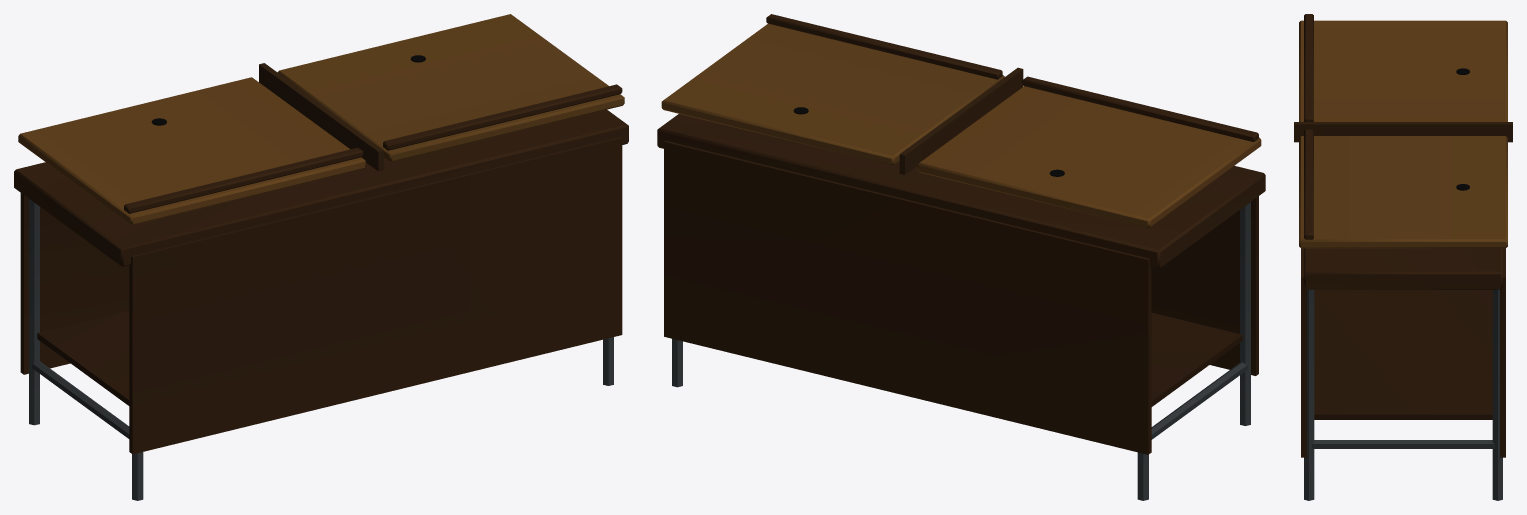
The model's file is school-desk-double.glb.
3 views of the same model, side by side, from view 1: azimuth 30°, elevation 25°; view 2: azimuth 150°, elevation 25°; view 3: azimuth 270°, elevation 25° (orthographic). The views are drawn at different scales.
Parts seen in each view (by area): view 1: frame__wood, lid-l__wood, lid-r__wood, legs__steel; view 2: frame__wood, lid-l__wood, lid-r__wood, legs__steel; view 3: frame__wood, lid-r__wood, lid-l__wood, legs__steel.
Boxes of the visible parts, left/top/right/bottom form: frame__wood: left=14, top=63, right=628, bottom=454; lid-l__wood: left=18, top=77, right=365, bottom=225; lid-r__wood: left=277, top=14, right=624, bottom=162; legs__steel: left=29, top=199, right=613, bottom=500; frame__wood: left=657, top=67, right=1265, bottom=454; lid-l__wood: left=917, top=76, right=1261, bottom=228; lid-r__wood: left=661, top=14, right=1004, bottom=165; legs__steel: left=672, top=202, right=1250, bottom=500; frame__wood: left=1294, top=122, right=1512, bottom=457; lid-r__wood: left=1299, top=129, right=1507, bottom=248; lid-l__wood: left=1299, top=14, right=1507, bottom=121; legs__steel: left=1304, top=289, right=1502, bottom=500.
Bounding box in the file's own units: 1.08 × 0.6 × 0.44.
